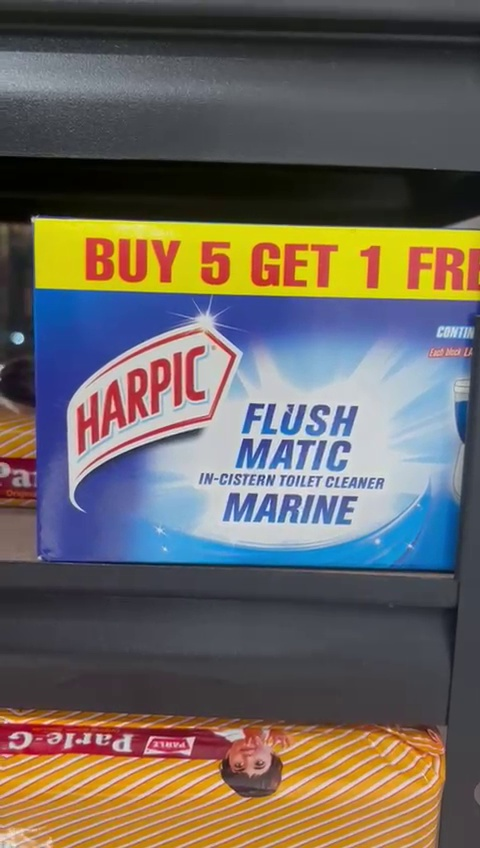Harpic: (29, 219, 480, 573)
